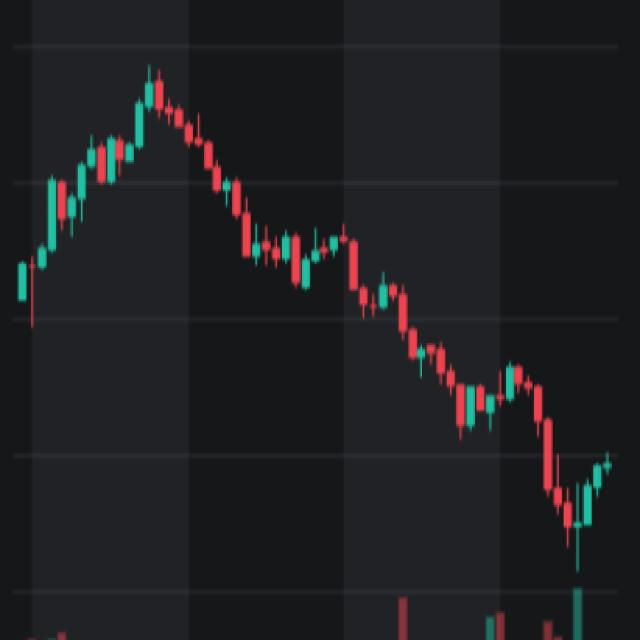Support-breakout: (20, 64, 468, 440)
